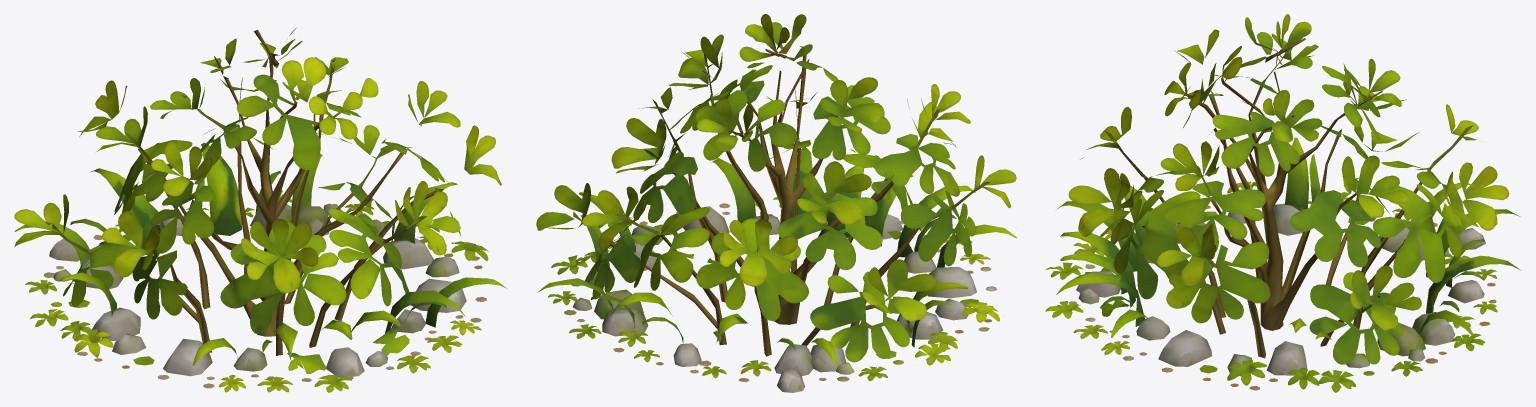
The model's file is shrub.glb.
3 views of the same model, side by side, from view 1: azimuth 30°, elevation 25°; view 2: azimuth 150°, elevation 25°; view 3: azimuth 270°, elevation 25° (orthographic). The views are drawn at different scales.
Parts seen in each view (by area): view 1: shrub; view 2: shrub; view 3: shrub.
Boxes of the visible parts, left/top/right/bottom form: shrub: left=14, top=28, right=506, bottom=392; shrub: left=536, top=14, right=1016, bottom=392; shrub: left=1045, top=14, right=1520, bottom=392.
Size of the model in its own units: 0.9951 by 0.7183 by 0.9976.
Materials: 1 (1 with a texture image).
